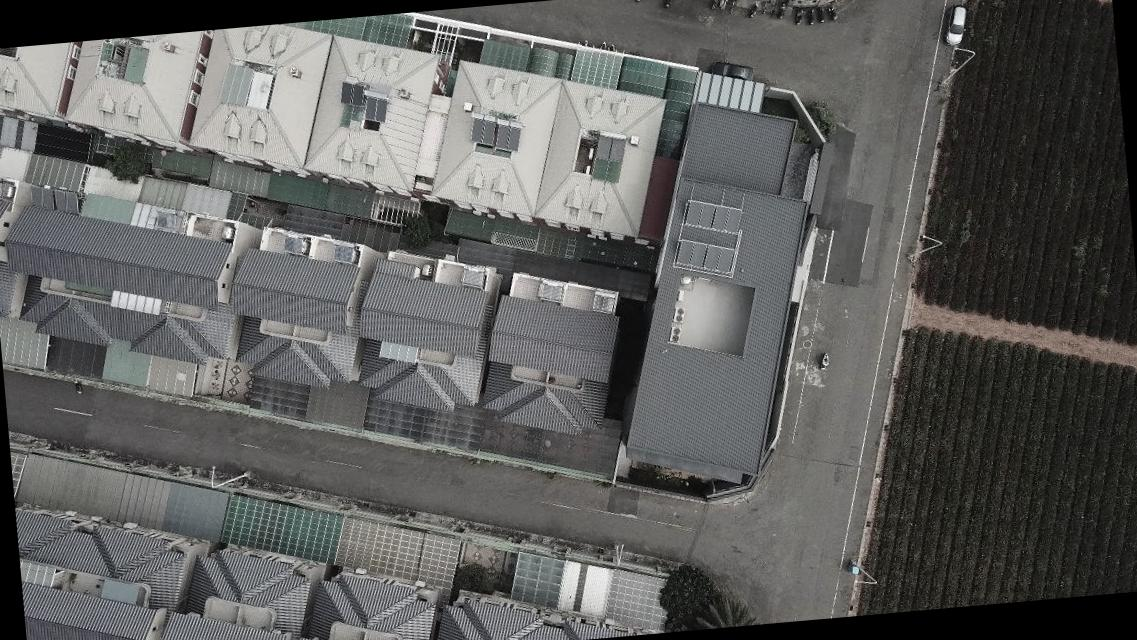vehicle: (710, 58, 754, 86), (942, 5, 970, 47)
